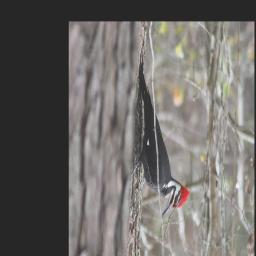Woodpecker: (130, 55, 192, 217)
